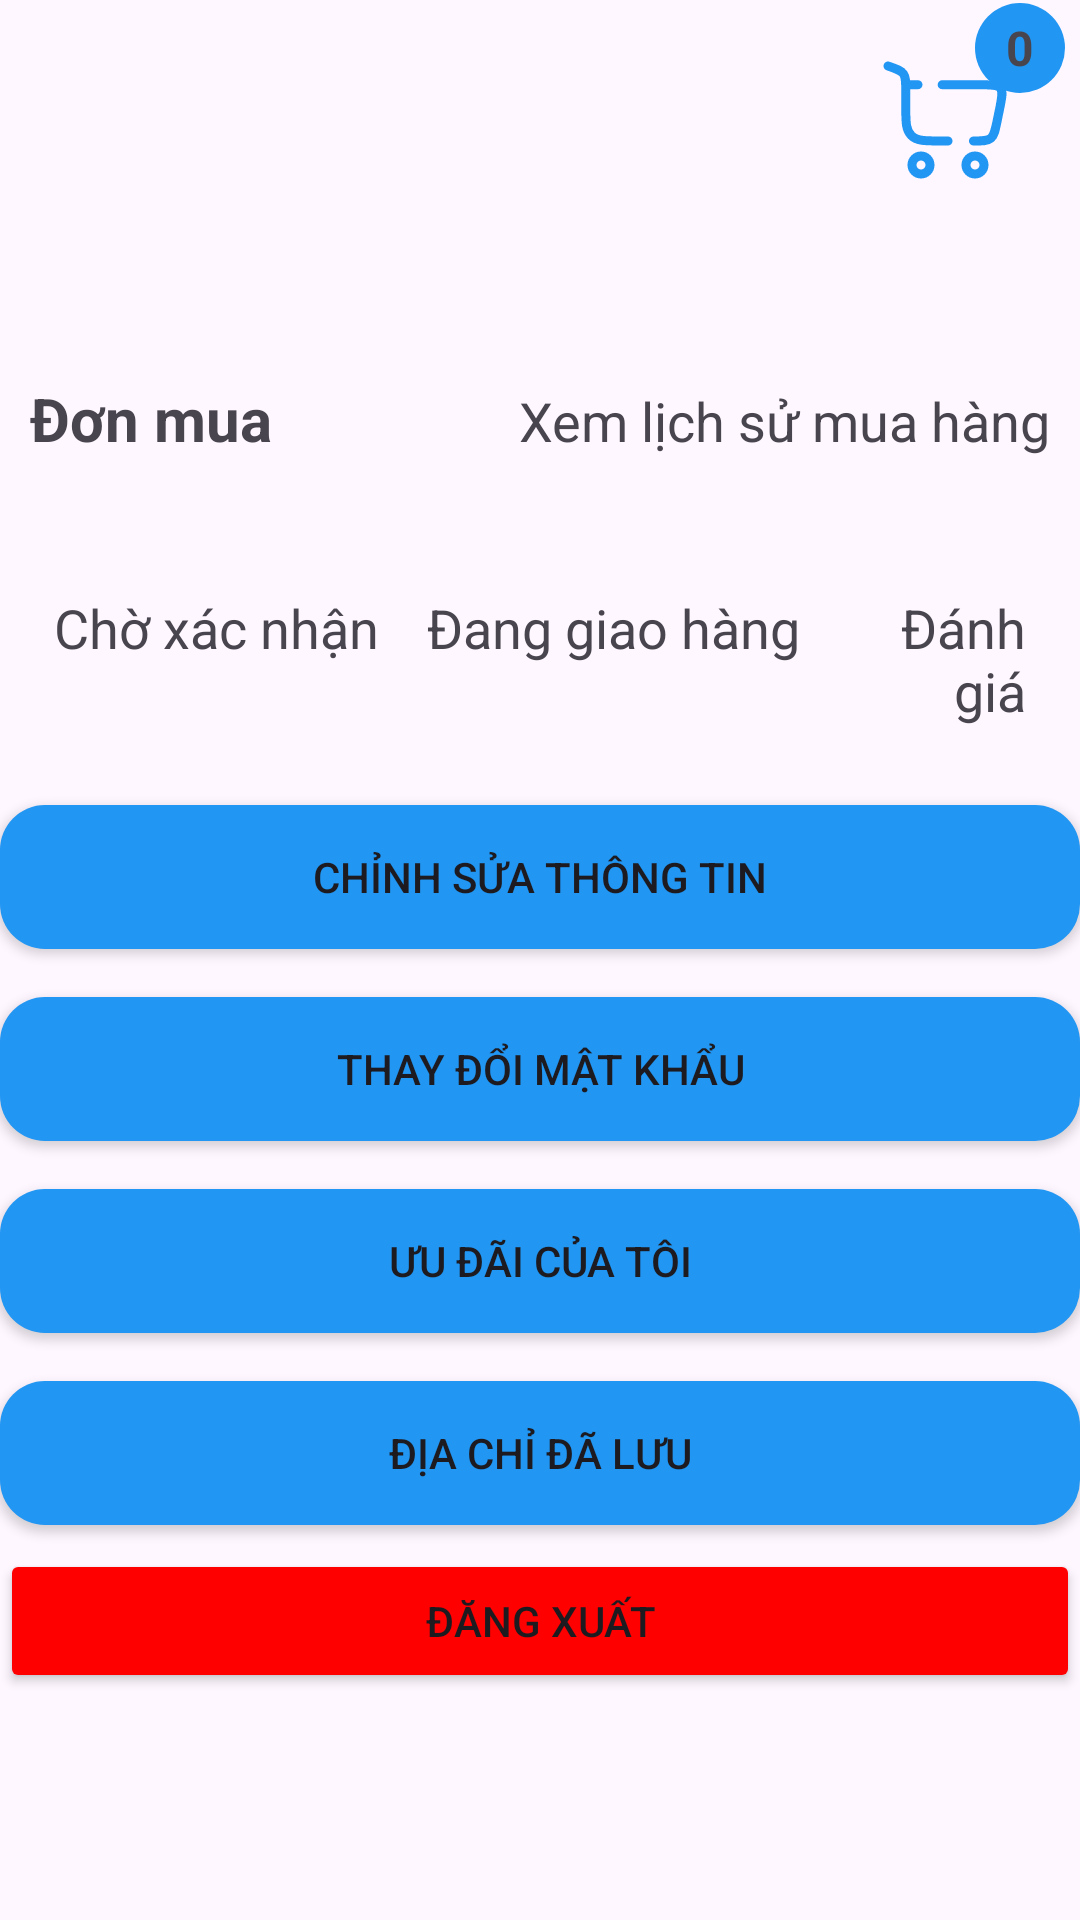

Icons on this 1080px×1920px Android screen, each with its box as (x1, y1, x2, y2):
cart minimalistic: (883, 48, 1020, 179)
